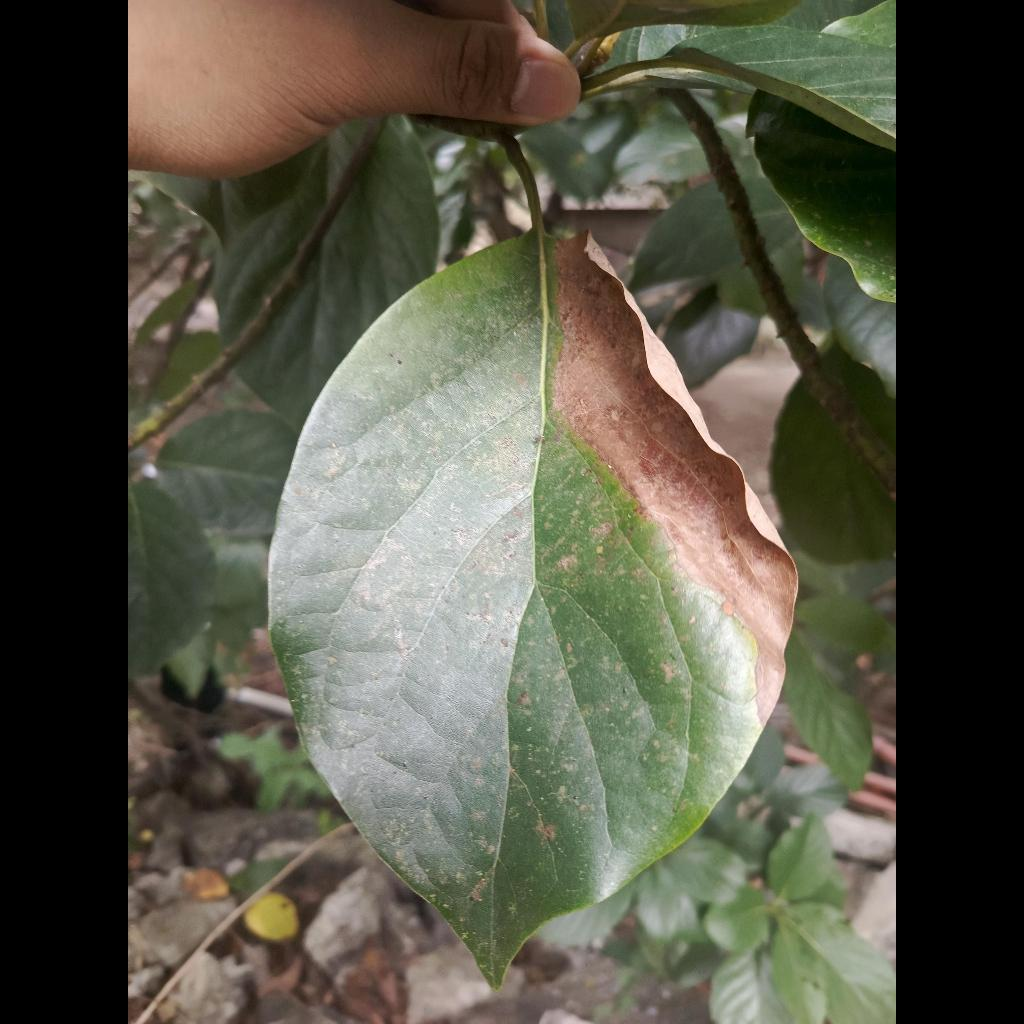Anthracnose: (270, 234, 795, 985)
